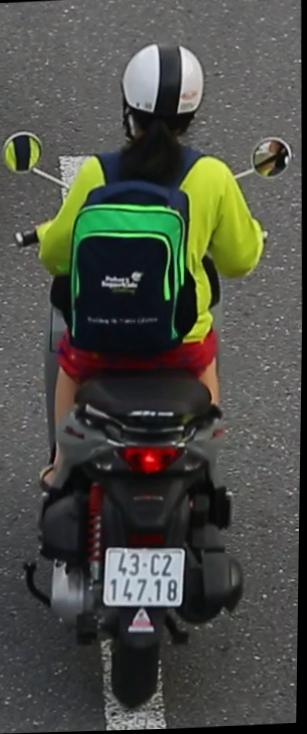LP: (99, 539, 192, 616)
helmet: (111, 39, 211, 174)
